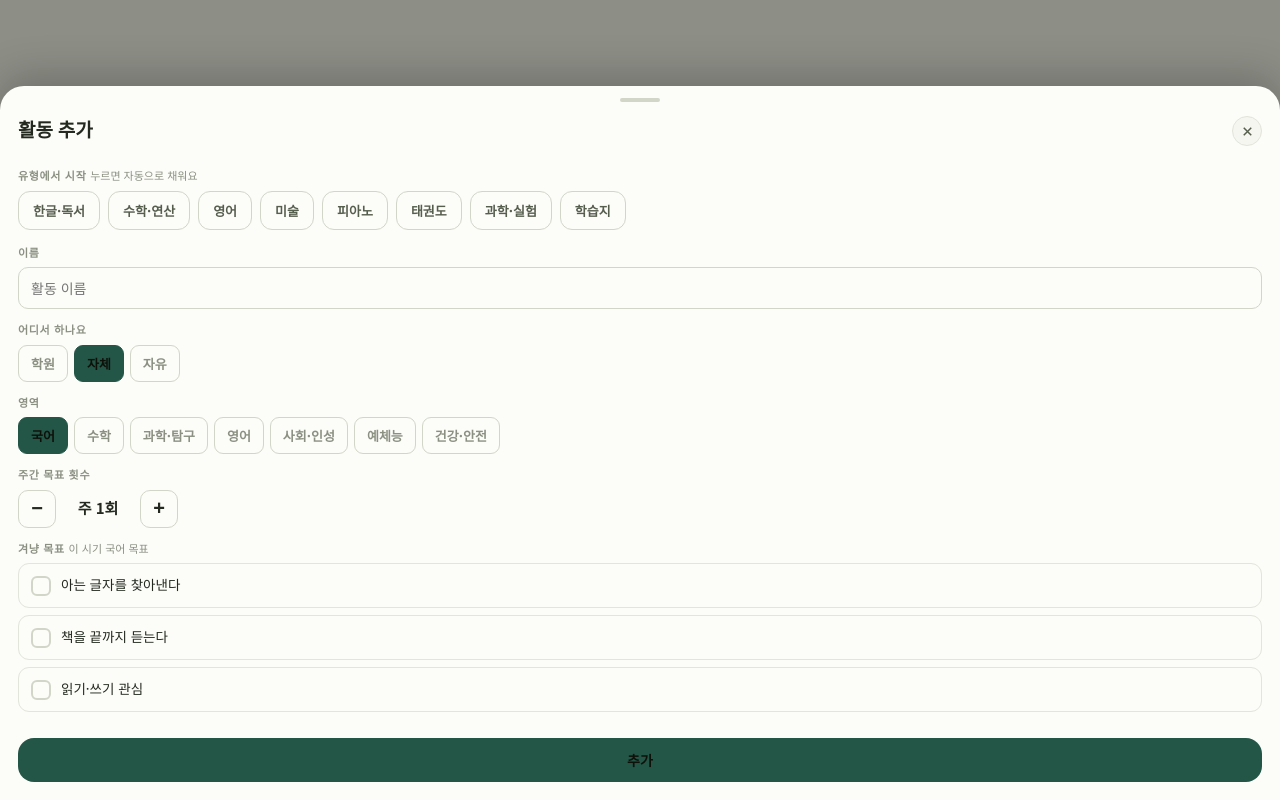
it: 활동 추가 폼 › 영역을 바꾸면 그 영역 목표가 나오고 이전 선택은 초기화된다
The image size is (1280, 800).
Click the button "아는 글자를 찾아낸다".
click(121, 584)  # box x1=18 y1=563 x2=1262 y2=608
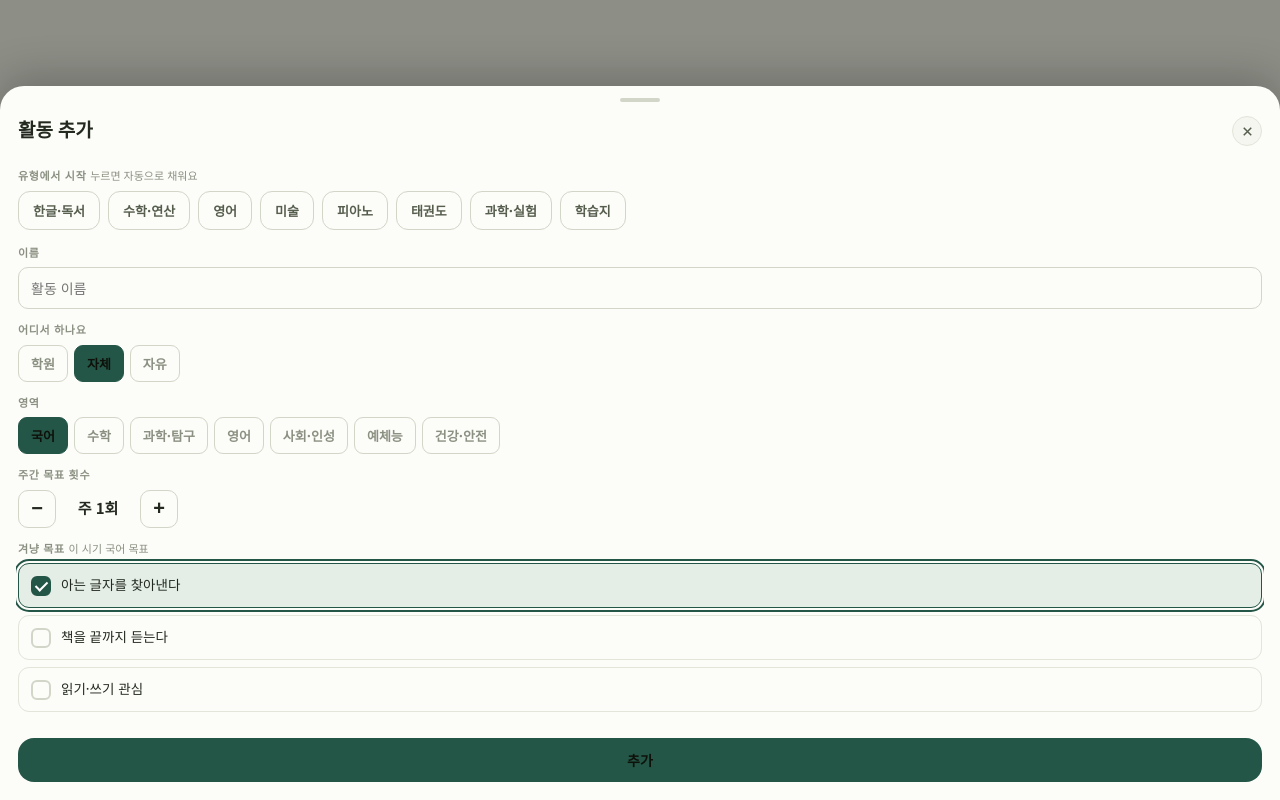
Click the button "수학".
click(99, 436)  # box x1=74 y1=417 x2=124 y2=454
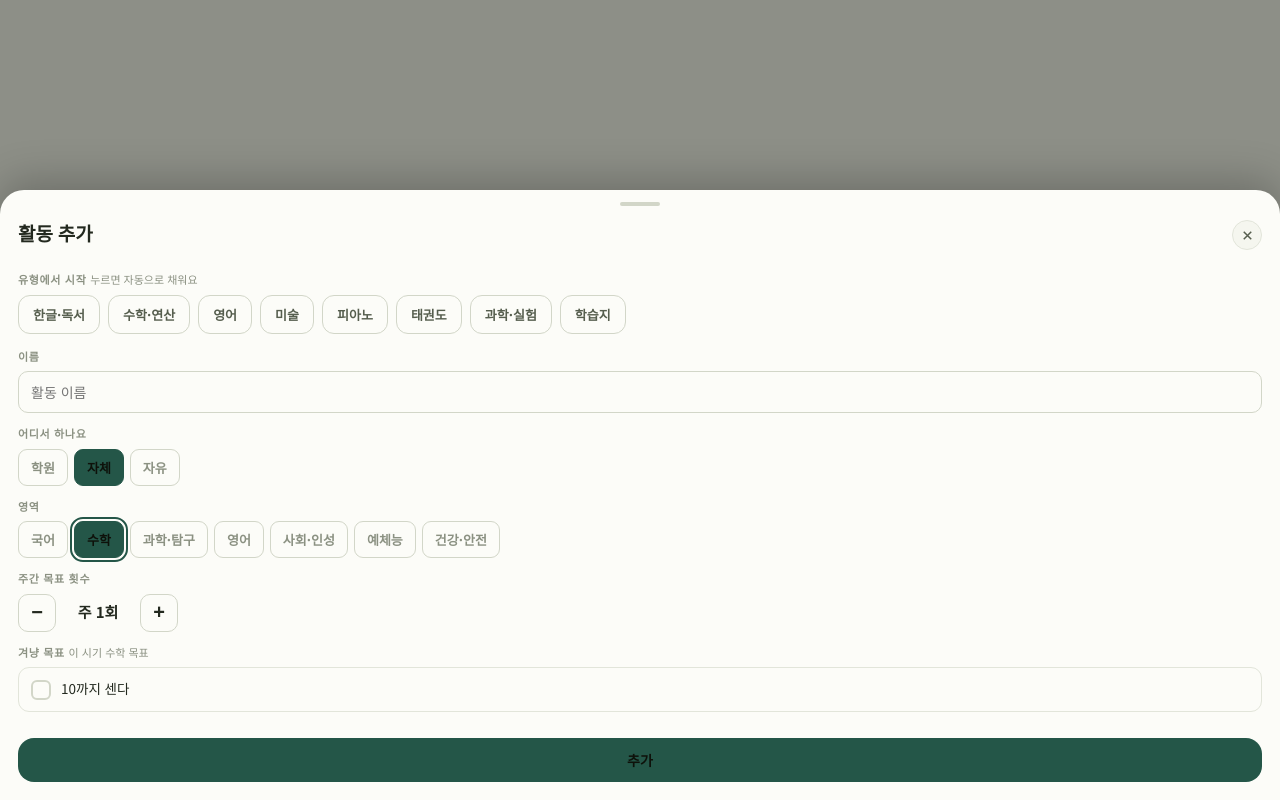
Now the text "10까지 센다" is shown, box x1=61 y1=679 x2=130 y2=698
Now the button "아는 글자를 찾아낸다" is gone
